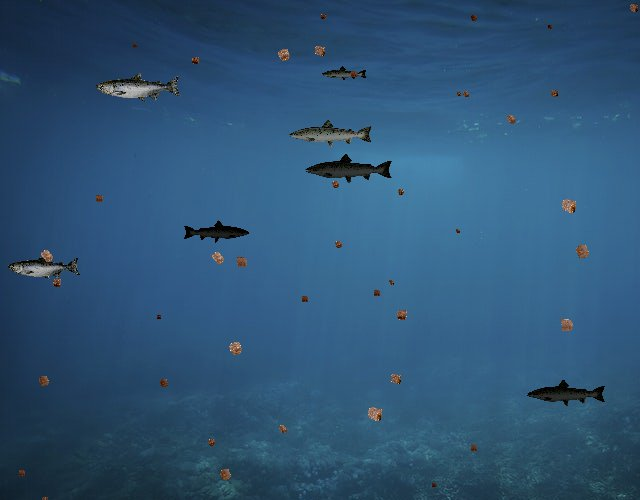Fish: (304, 152, 394, 185), (288, 118, 374, 149), (96, 72, 182, 103), (526, 378, 607, 407), (9, 254, 82, 281), (182, 220, 250, 244), (321, 65, 368, 82)
Pellet: (308, 40, 331, 63), (501, 109, 521, 129), (187, 52, 204, 69), (369, 286, 384, 300), (454, 88, 464, 98)
